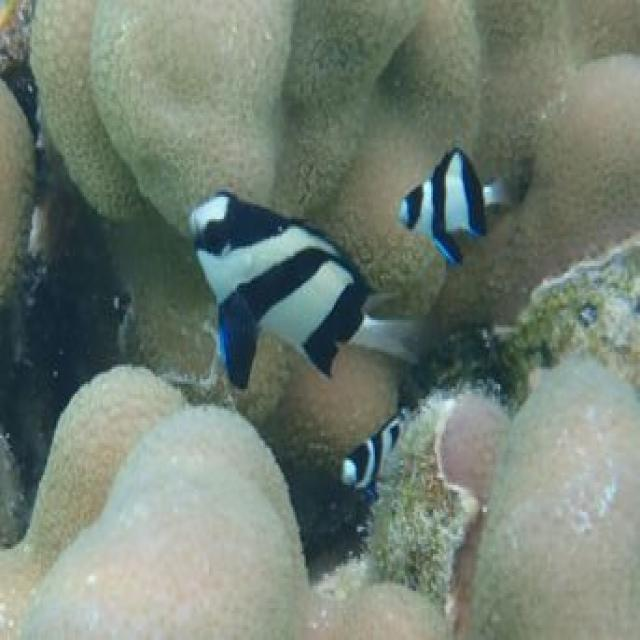Three_striped DasmselFish: (188, 192, 426, 394), (397, 143, 517, 266)
